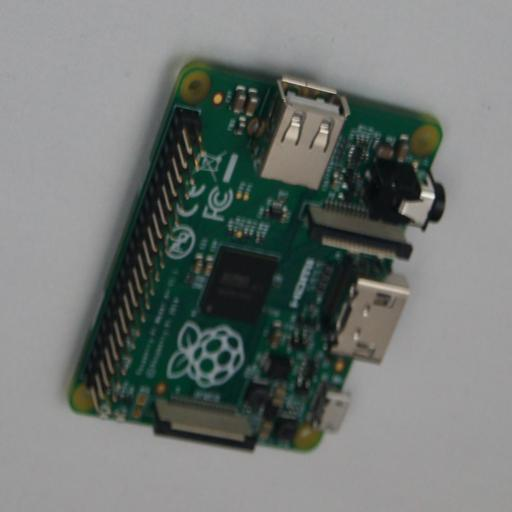Raspberry Pi A-: (68, 58, 446, 452)
